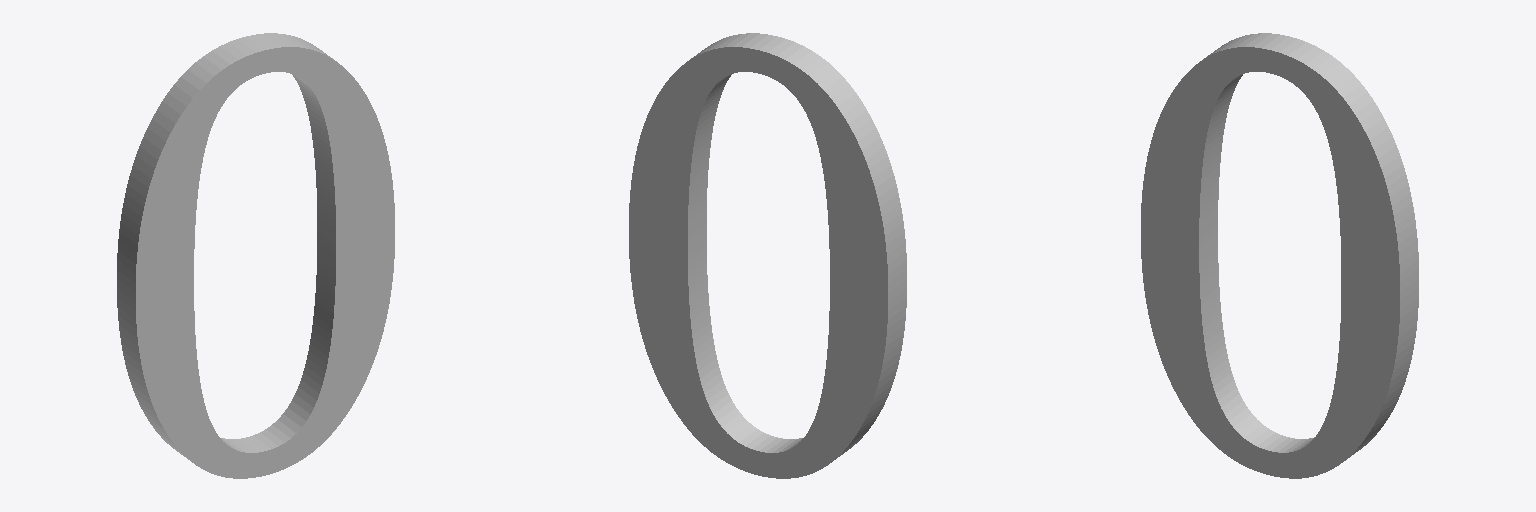
3 renders of one model, left to right at view 1: azimuth 30°, elevation 25°; view 2: azimuth 150°, elevation 25°; view 3: azimuth 330°, elevation 25°, orthographic.
Parts seen in each view (by area): view 1: mmGroup0; view 2: mmGroup0; view 3: mmGroup0.
Boxes of the visible parts, box(x1,y1,x2,y2) form: mmGroup0: box(117, 33, 394, 478); mmGroup0: box(629, 33, 906, 478); mmGroup0: box(1141, 33, 1418, 478).
Bounding box in the file's own units: 4.76 × 7.46 × 0.6.